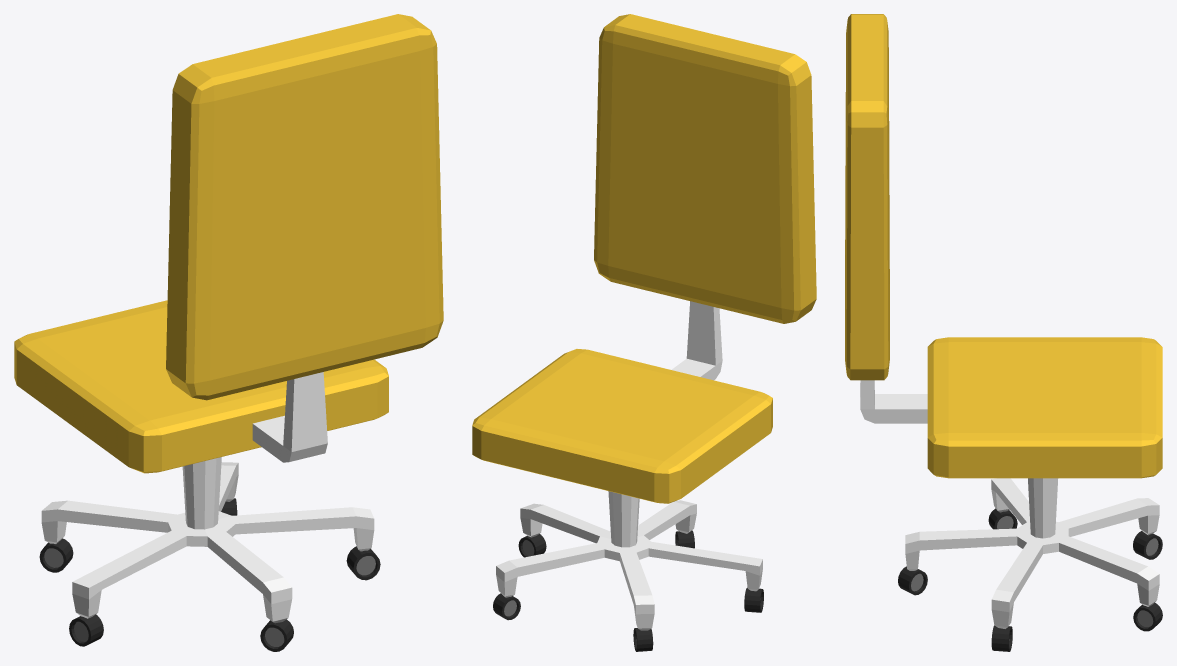
File: Chair_24.fbx
The picture shows the model from 3 angles, left to right: view 1: azimuth 30°, elevation 25°; view 2: azimuth 150°, elevation 25°; view 3: azimuth 270°, elevation 25°; orthographic projection. The views are drawn at different scales.
Parts seen in each view (by area): view 1: Chair_24; view 2: Chair_24; view 3: Chair_24.
Boxes of the visible parts, x1,y1,x2,y2 form: Chair_24: [14, 14, 443, 651]; Chair_24: [472, 14, 816, 651]; Chair_24: [845, 14, 1162, 651].
Bounding box in the file's own units: 0.4258 × 0.8344 × 0.4495.
